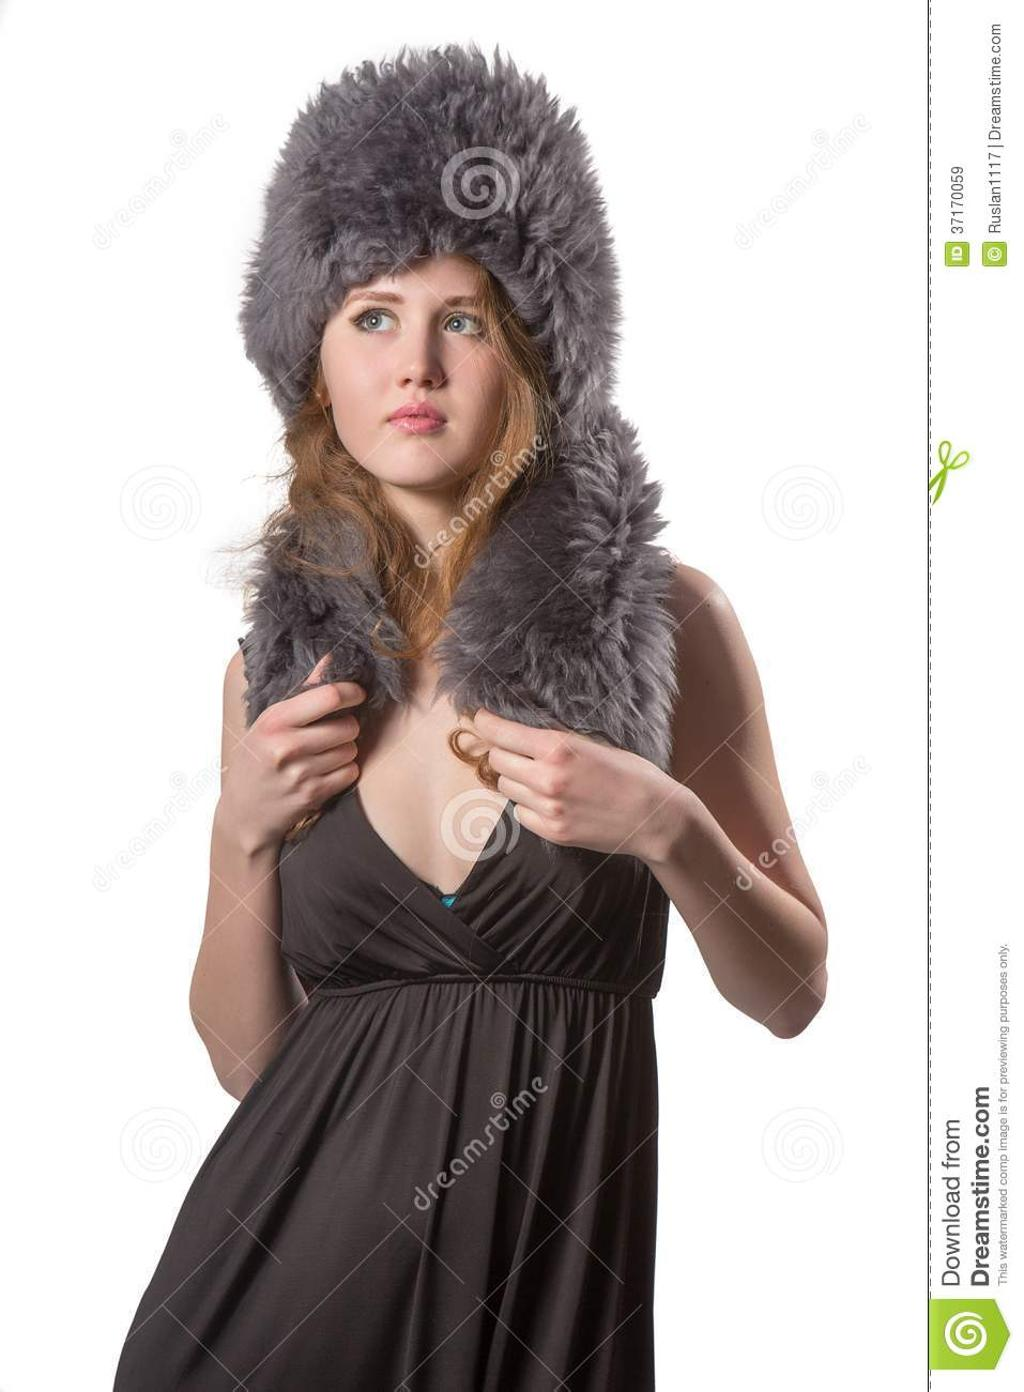face: (323, 231, 510, 486)
